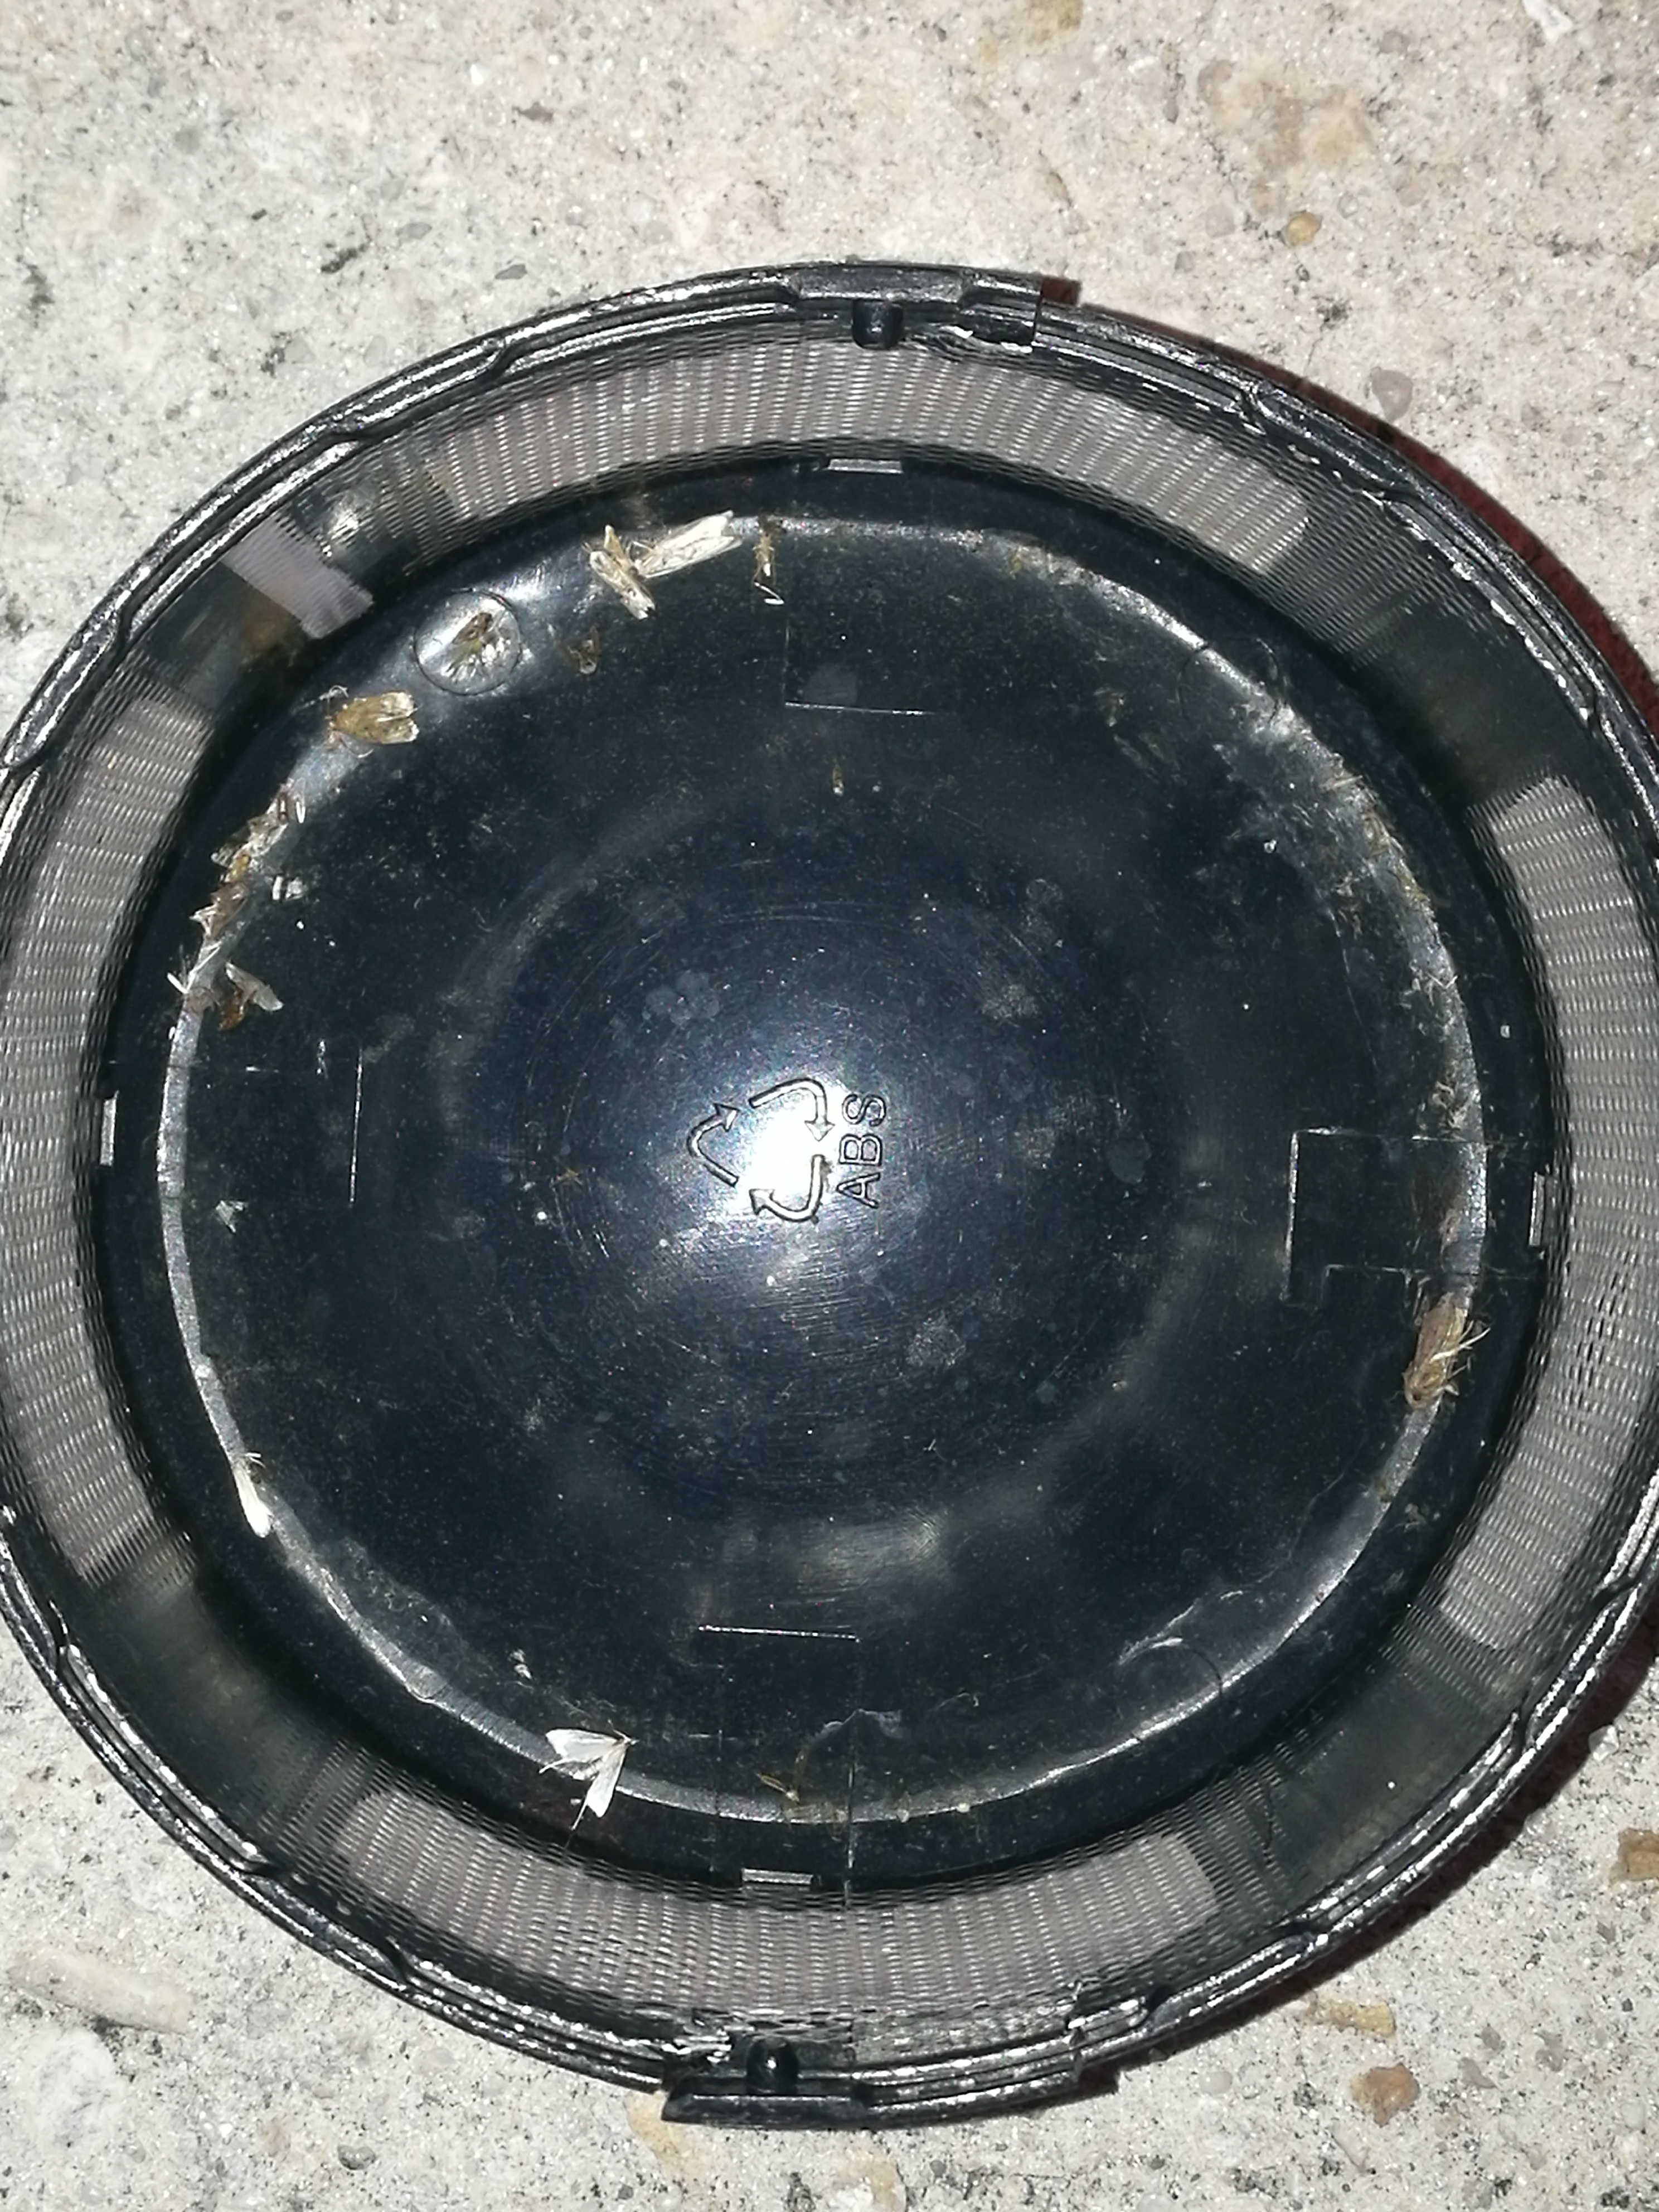mosquito: (636, 509, 742, 577), (587, 552, 652, 618), (235, 1461, 270, 1538)
moth: (547, 1728, 626, 1815), (1408, 1296, 1460, 1409), (333, 695, 413, 747)
